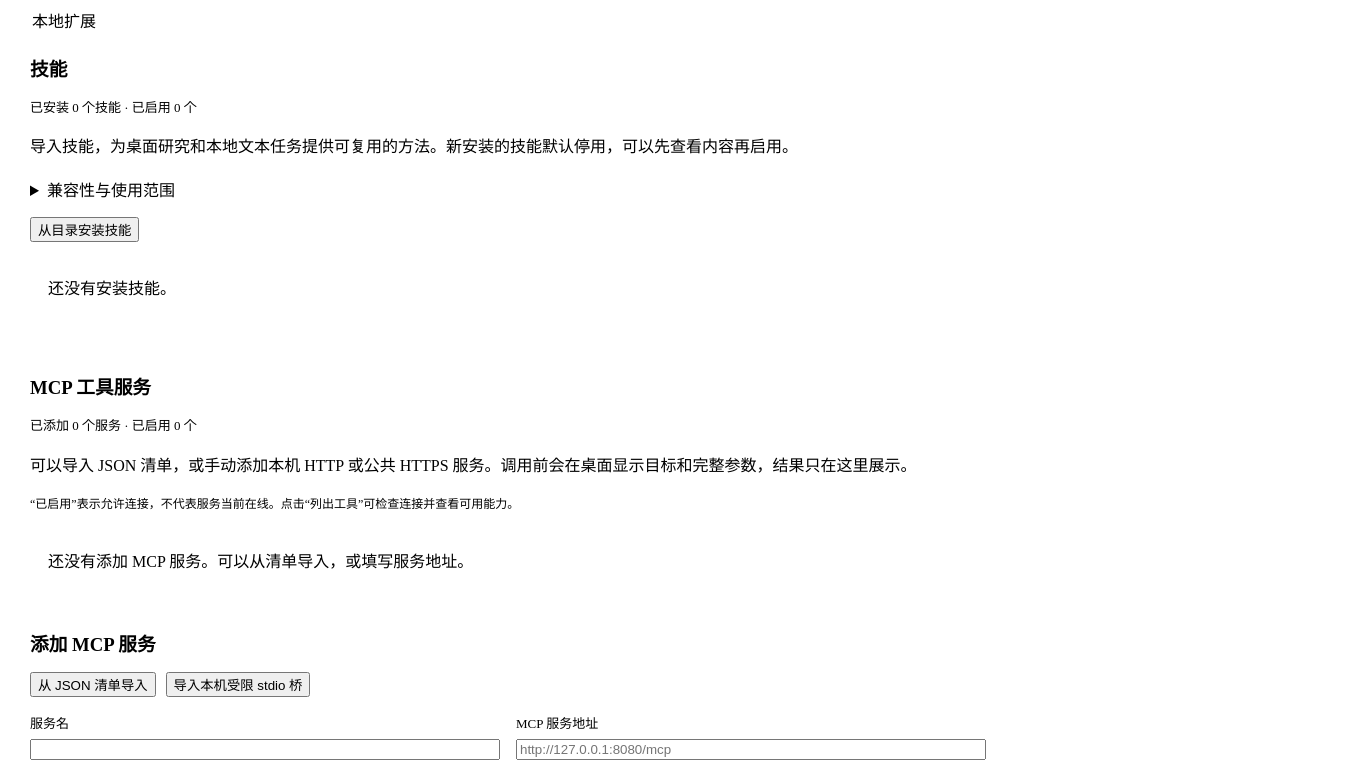
Test case: uses a fixed skill error for extensions.duplicateSkill in zh=true without exposing upstream details
Check: the text "还没有安装技能。" is shown, box [48, 280, 176, 297]
What coordinates should you click on to do the following:
click the button "从目录安装技能"
I would click on:
 (85, 229)
Its box is [30, 217, 139, 242].
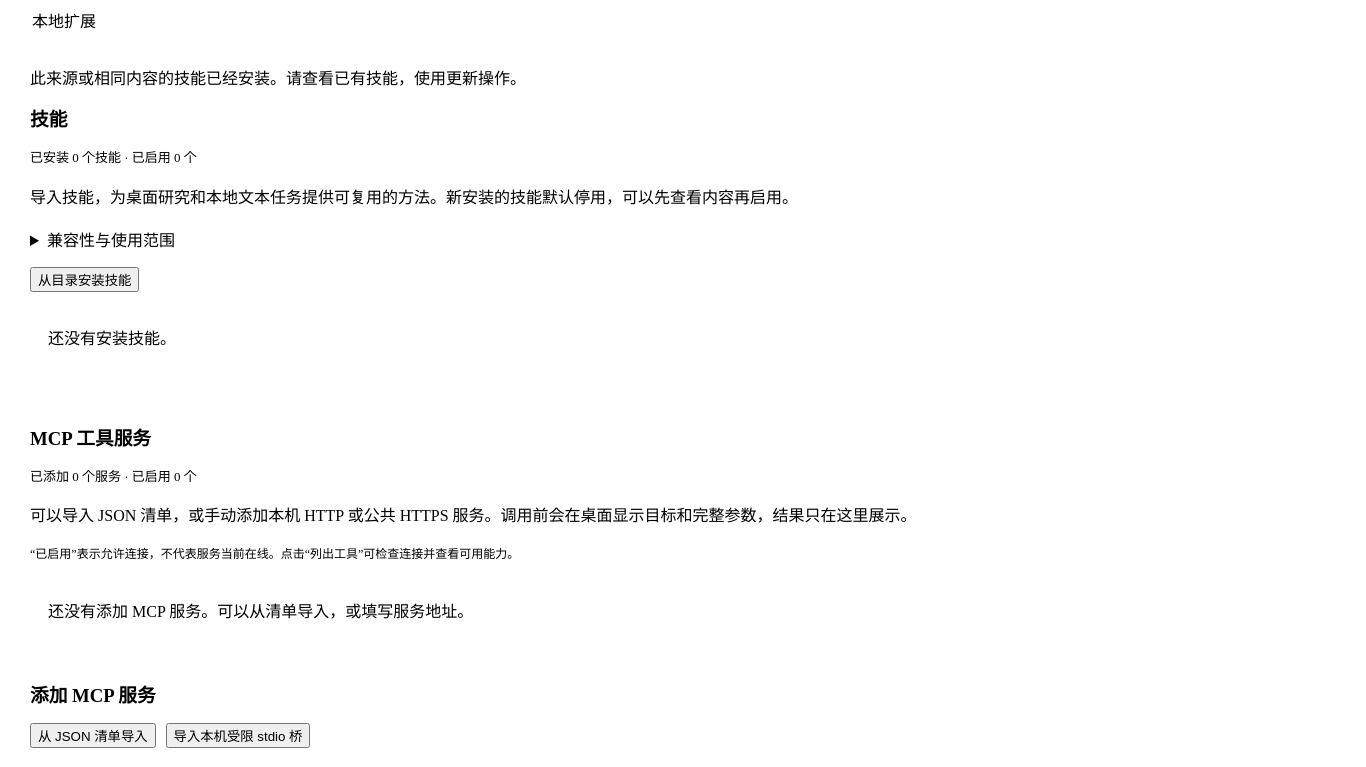
Check: the message reads "此来源或相同内容的技能已经安装。请查看已有技能，使用更新操作。", box [30, 70, 526, 87]
